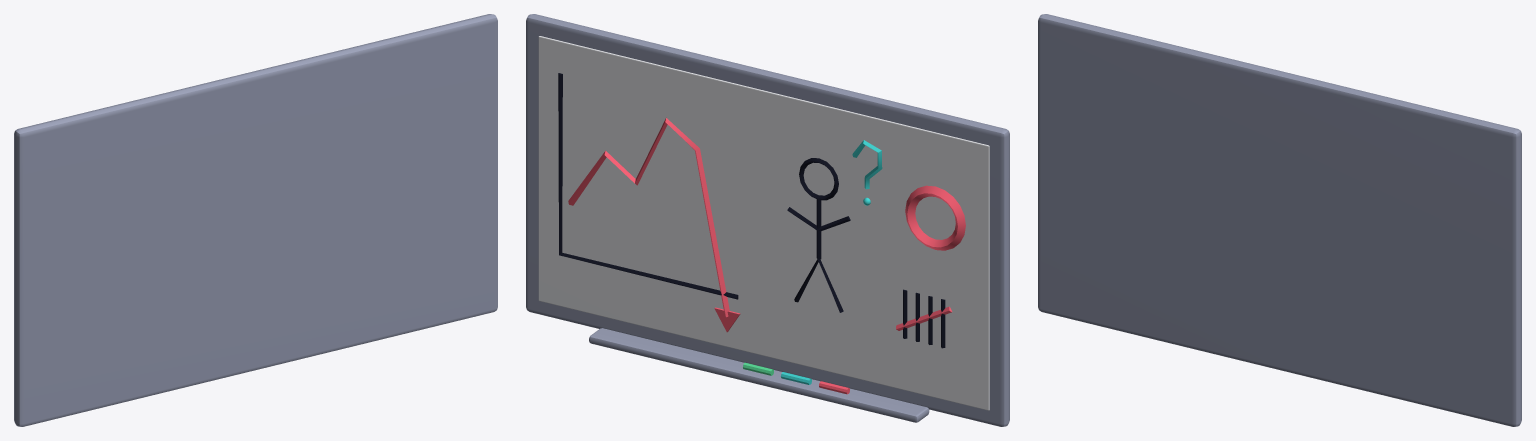
The model's file is whiteboard.glb.
The picture shows the model from 3 angles, left to right: view 1: azimuth 30°, elevation 25°; view 2: azimuth 150°, elevation 25°; view 3: azimuth 330°, elevation 25°; orthographic projection.
Parts seen in each view (by area): view 1: Body; view 2: Body; view 3: Body.
Boxes of the visible parts, box(x1,y1,x2,y2) form: Body: box(14, 14, 497, 426); Body: box(526, 14, 1009, 426); Body: box(1038, 14, 1521, 426).
Bounding box in the file's own units: 1.9 × 1.13 × 0.13.
